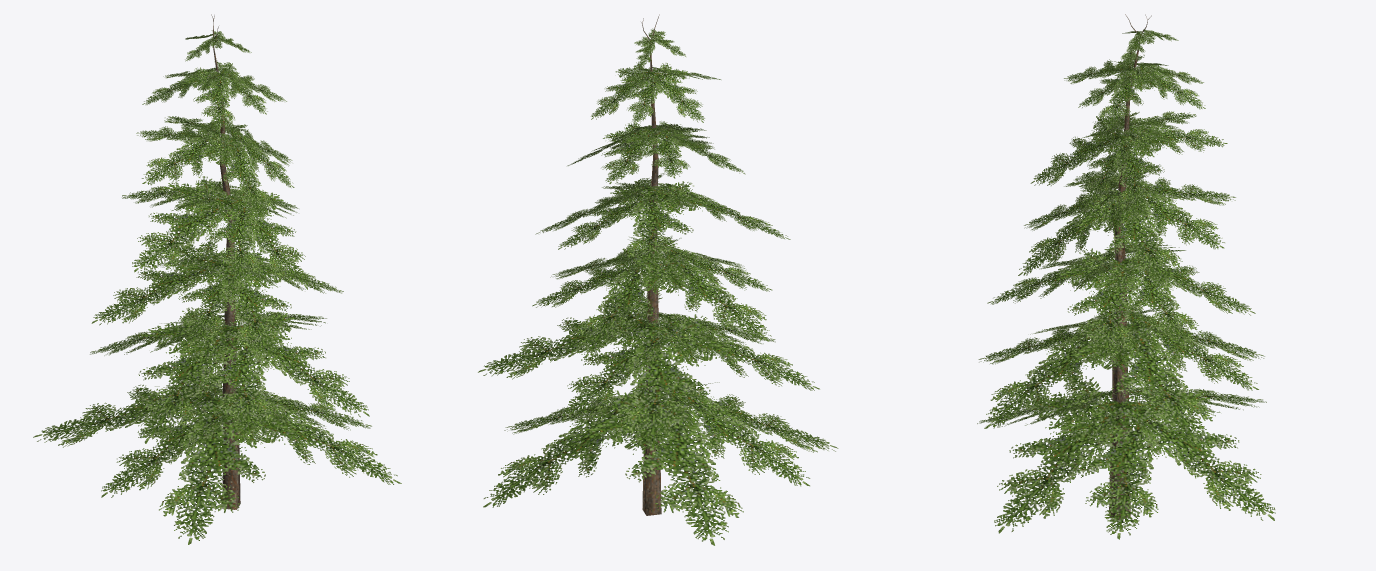
Rendered from PineTree1.fbx.
3 views of the same model, side by side, from view 1: azimuth 30°, elevation 25°; view 2: azimuth 150°, elevation 25°; view 3: azimuth 270°, elevation 25° (orthographic). The views are drawn at different scales.
Visible parts, largest first — view 1: Plane.070, tree.003; view 2: Plane.070, tree.003; view 3: Plane.070, tree.003.
Boxes of the visible parts, x1=… form: Plane.070: x1=33, y1=30, x2=401, y2=544; tree.003: x1=211, y1=14, x2=240, y2=509; Plane.070: x1=478, y1=28, x2=838, y2=545; tree.003: x1=641, y1=14, x2=661, y2=515; Plane.070: x1=977, y1=29, x2=1275, y2=539; tree.003: x1=1109, y1=14, x2=1151, y2=520.
Size of the model in its own units: 595 by 777 by 661.
